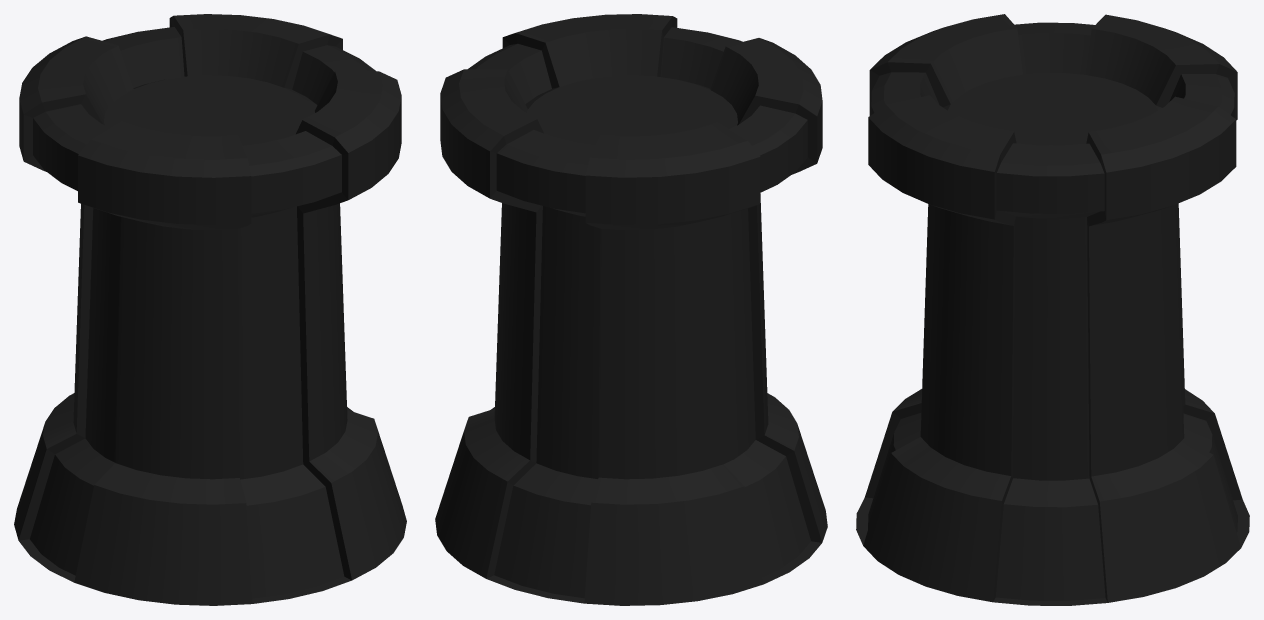
Rendered from FoodPillar_Base.glb.
The picture shows the model from 3 angles, left to right: view 1: azimuth 30°, elevation 25°; view 2: azimuth 150°, elevation 25°; view 3: azimuth 270°, elevation 25°; orthographic projection.
Visible parts, largest first — view 1: Base; view 2: Base; view 3: Base.
Part boxes in pixels (bbox=[...]): Base: bbox=[14, 14, 406, 605]; Base: bbox=[435, 14, 827, 605]; Base: bbox=[856, 14, 1249, 605].
Size of the model in its own units: 1.99 by 2.49 by 1.99.
1 material, 1 textured.
